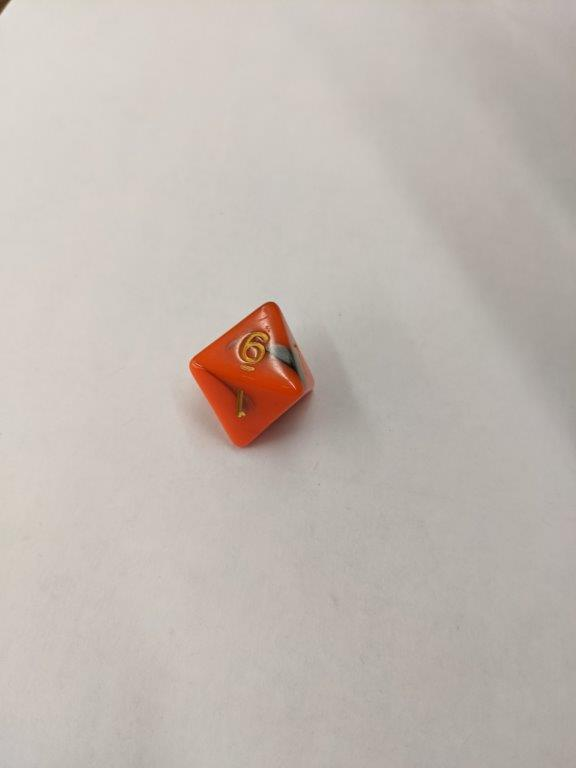d8-6: (188, 300, 317, 449)
